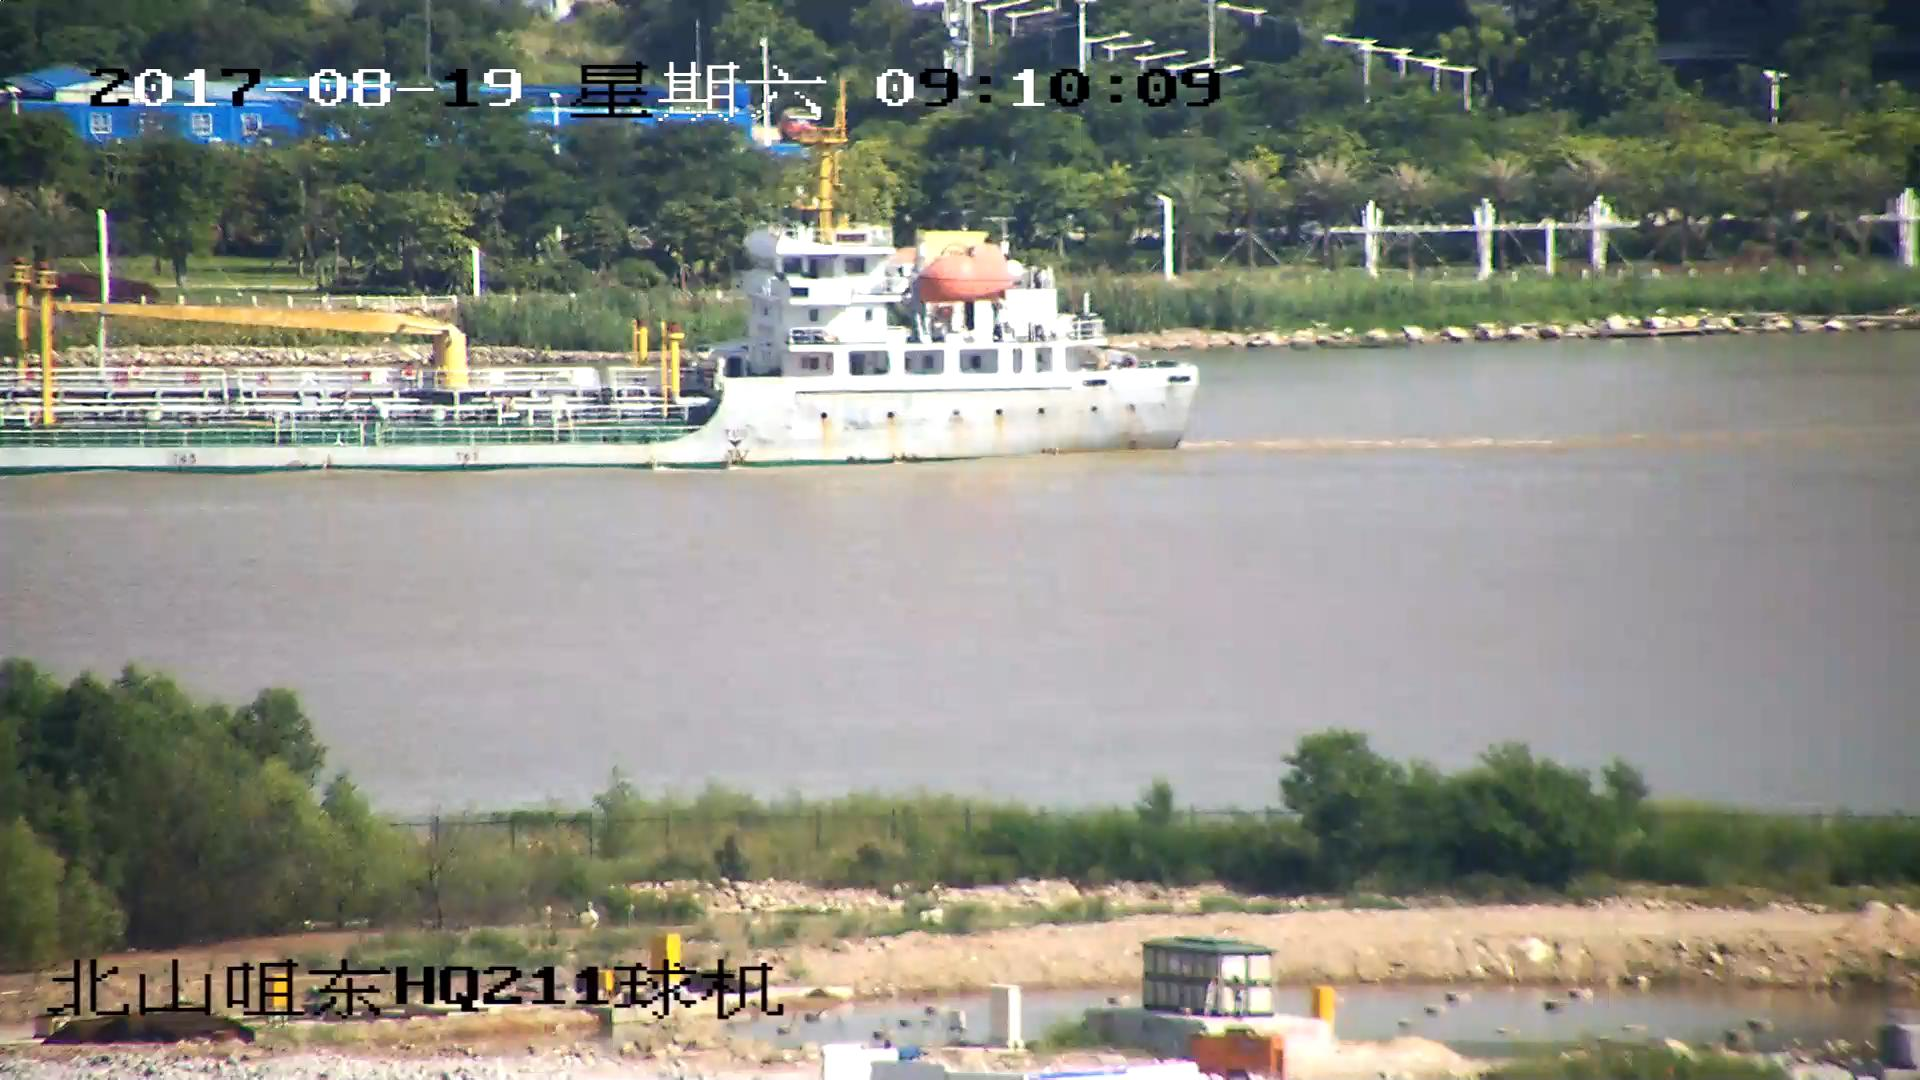general cargo ship: (1, 135, 1207, 468)
